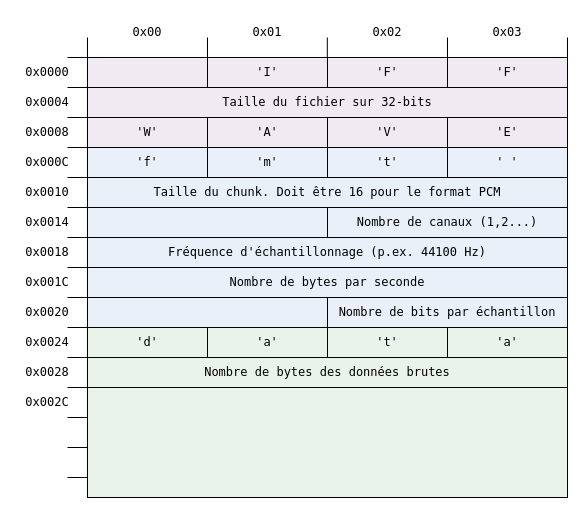
The diagram is 586 pixels wide and 515 high, and some of its shapes have lost their labels. The shapes that lost their labels are listed below. From the top down, each one's centre as x and y in pixels, then its label:
At (147,72): "'R'".
At (207,222): "Format audio (PCM=1)".
At (207,312): "Alignement".
At (327,442): "Données brutes . .".
